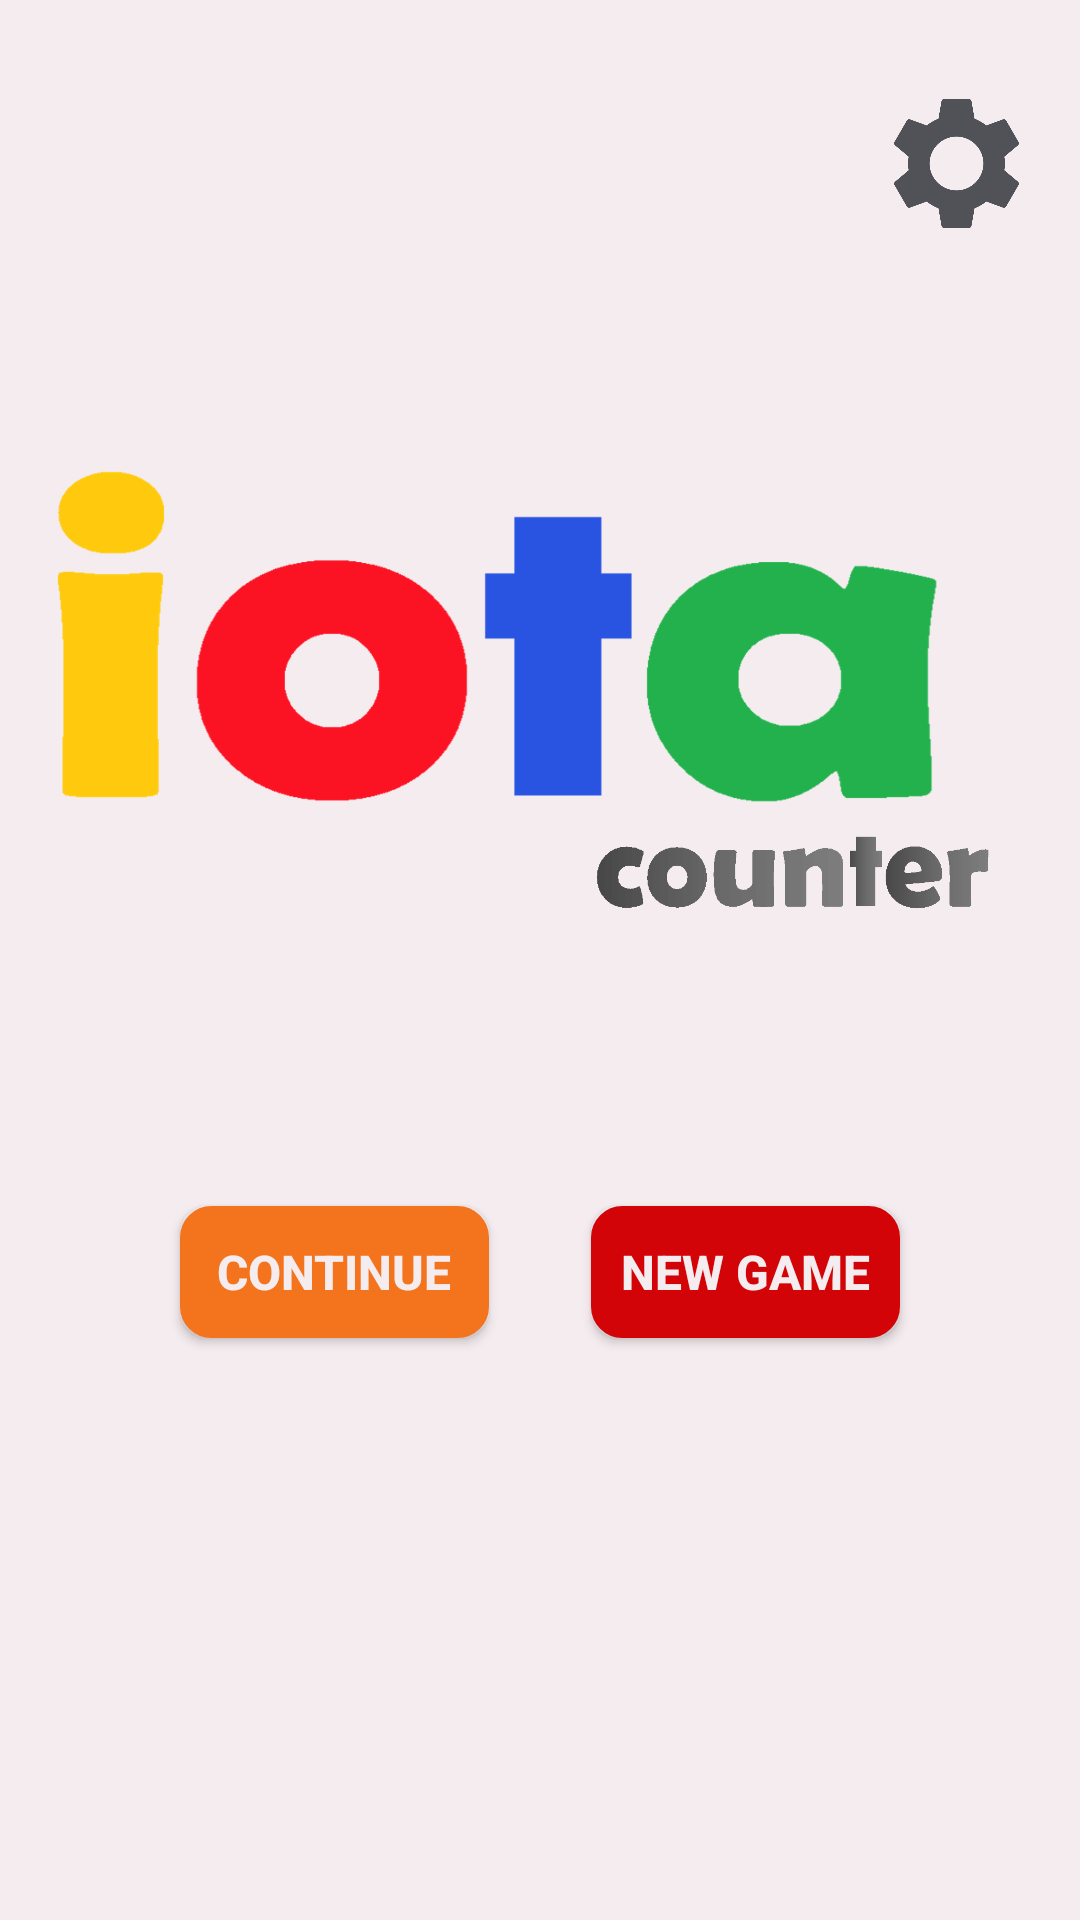

Where icons sit on this 1080 x 1920 app screen, as box(x1, y1, x2, y2):
gear: box(894, 99, 1019, 228)
